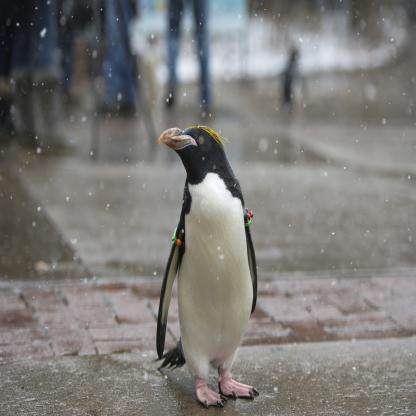Penguin: (146, 104, 280, 414)
